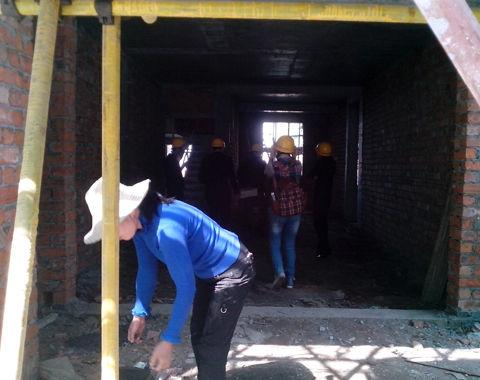helmet: (274, 135, 299, 153), (314, 142, 337, 159), (172, 137, 189, 152), (210, 138, 227, 151), (247, 143, 265, 155)
